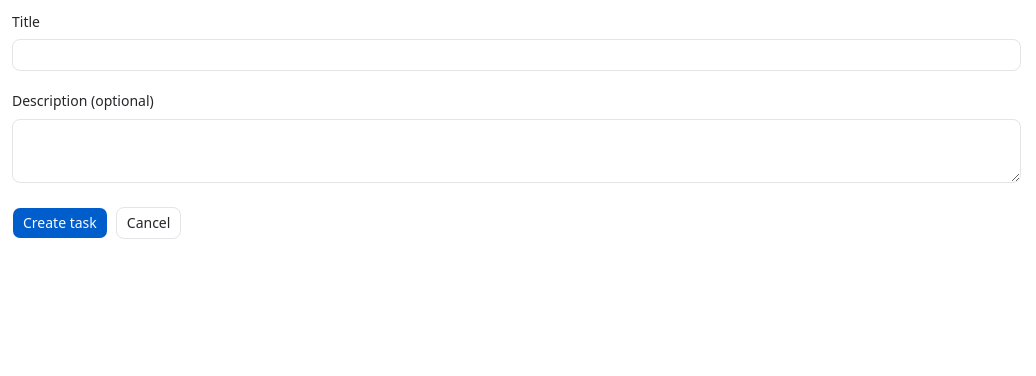
TaskForm › shows a save that finds the task gone inside the form, with a link back to the list
Type "Oil the hinge" into the field labelled "Title".
click(516, 55); type("Oil the hinge")  # box x1=12 y1=39 x2=1021 y2=71
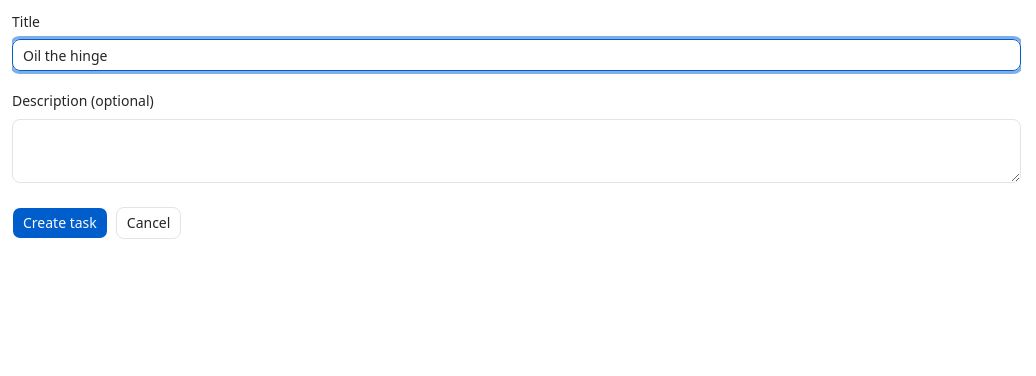
Click the button "Create task".
click(60, 222)  # box x1=12 y1=206 x2=108 y2=238
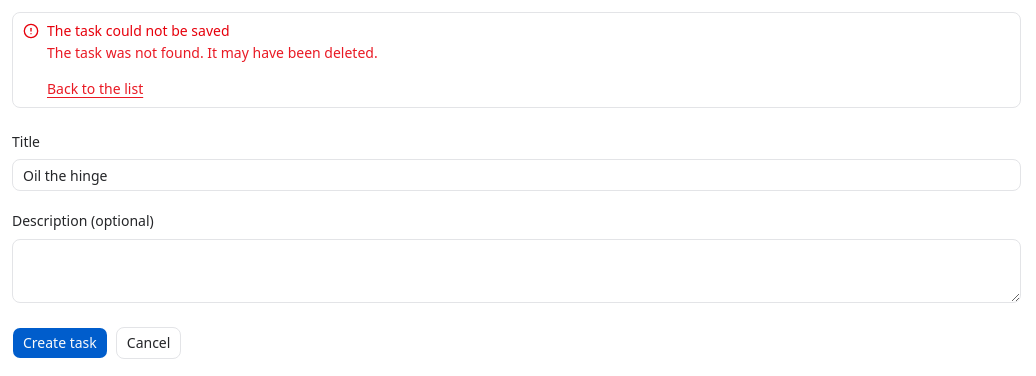
Result: the message shows "The task was not found. It may have been deleted." at x1=47 y1=43 x2=378 y2=62
